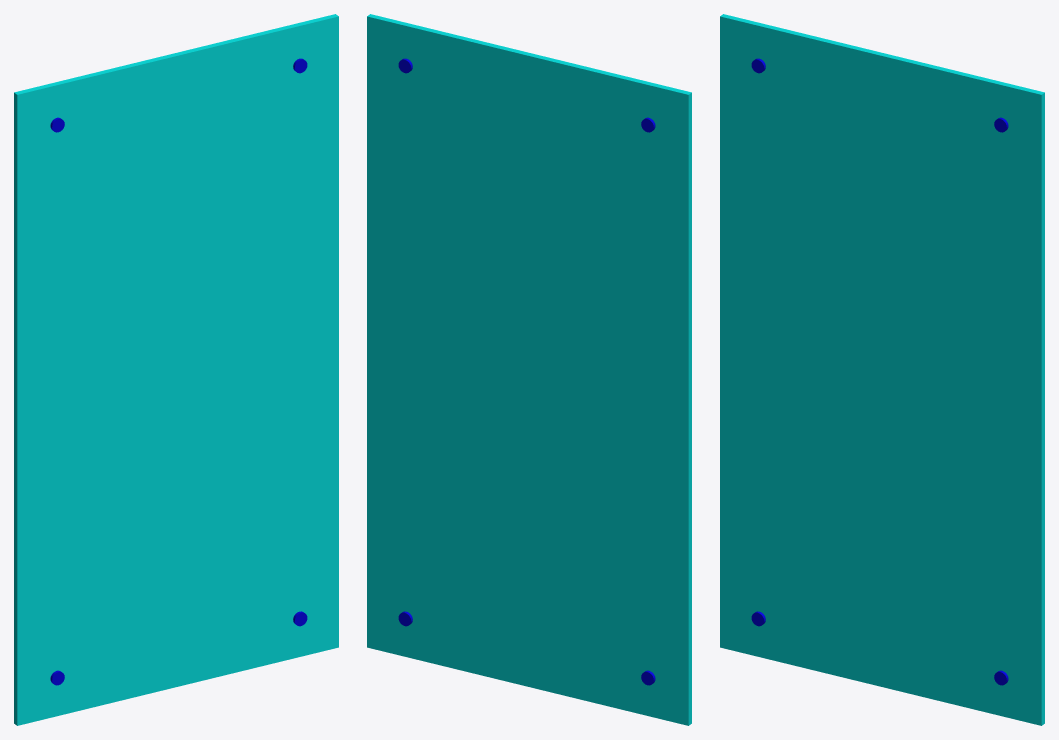
The model's file is cuadro_01_low.fbx.
3 views of the same model, side by side, from view 1: azimuth 30°, elevation 25°; view 2: azimuth 150°, elevation 25°; view 3: azimuth 330°, elevation 25° (orthographic).
Parts seen in each view (by area): view 1: cuadro_base; view 2: cuadro_base; view 3: cuadro_base.
Part boxes in pixels (left/top/right/bottom): cuadro_base: left=14, top=14, right=338, bottom=725; cuadro_base: left=367, top=14, right=691, bottom=725; cuadro_base: left=720, top=14, right=1044, bottom=725.
Bounding box in the file's own units: 56 × 105 × 2.
